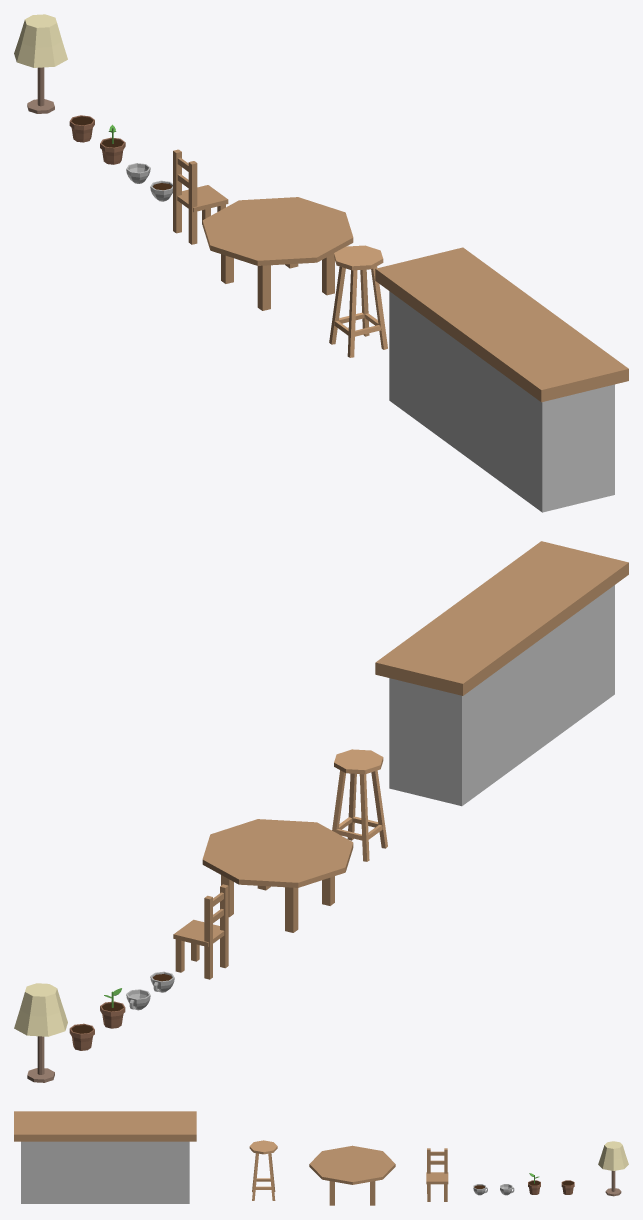
The model's file is Low-Poly Cafe Asset Pack.fbx.
The picture shows the model from 3 angles, top to bottom: view 1: azimuth 30°, elevation 25°; view 2: azimuth 150°, elevation 25°; view 3: azimuth 270°, elevation 25°; orthographic projection. The views are drawn at different scales.
Visible parts, largest first — view 1: Bar_Counter, Table, Bar_Chair, Table_Lamp, Chair; view 2: Bar_Counter, Table, Bar_Chair, Table_Lamp, Chair; view 3: Bar_Counter, Table, Table_Lamp, Bar_Chair, Chair, Plant_Pot, Pot.
Part boxes in pixels (left/top/right/bottom): Bar_Counter: left=375, top=247, right=628, bottom=512; Table: left=202, top=197, right=353, bottom=310; Bar_Chair: left=329, top=245, right=387, bottom=357; Table_Lamp: left=14, top=14, right=67, bottom=113; Chair: left=173, top=149, right=228, bottom=244; Bar_Counter: left=375, top=541, right=628, bottom=806; Table: left=202, top=819, right=353, bottom=932; Bar_Chair: left=332, top=749, right=387, bottom=861; Table_Lamp: left=14, top=983, right=67, bottom=1082; Chair: left=173, top=884, right=228, bottom=979; Bar_Counter: left=14, top=1111, right=196, bottom=1203; Table: left=309, top=1145, right=395, bottom=1205; Table_Lamp: left=598, top=1141, right=628, bottom=1196; Bar_Chair: left=249, top=1140, right=277, bottom=1200; Chair: left=426, top=1148, right=448, bottom=1201; Plant_Pot: left=528, top=1173, right=540, bottom=1194; Pot: left=561, top=1180, right=574, bottom=1194.
Size of the model in its own units: 614 by 588 by 4384.
